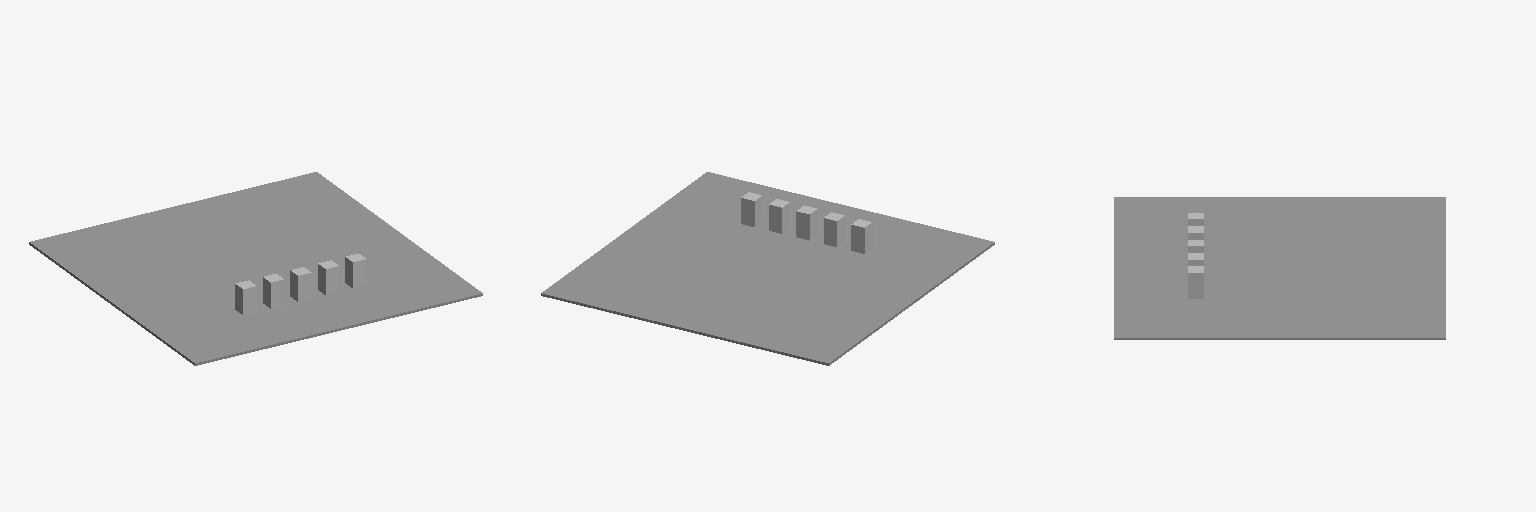
The model's file is demolevel.obj.
3 views of the same model, side by side, from view 1: azimuth 30°, elevation 25°; view 2: azimuth 150°, elevation 25°; view 3: azimuth 270°, elevation 25° (orthographic).
Visible parts, largest first — view 1: Floor_Cube, MusicCube2_Cube.002, MusicCube0_Cube.004, MusicCube4_Cube.005, MusicCube1_Cube.001, MusicCube3_Cube.003; view 2: Floor_Cube, MusicCube4_Cube.005, MusicCube2_Cube.002, MusicCube0_Cube.004, MusicCube1_Cube.001, MusicCube3_Cube.003; view 3: Floor_Cube, MusicCube4_Cube.005.
Boxes of the visible parts, x1,y1,x2,y2 form: Floor_Cube: [29, 172, 482, 365]; MusicCube2_Cube.002: [290, 267, 311, 301]; MusicCube0_Cube.004: [235, 280, 256, 314]; MusicCube4_Cube.005: [345, 253, 366, 288]; MusicCube1_Cube.001: [263, 274, 283, 308]; MusicCube3_Cube.003: [318, 260, 338, 294]; Floor_Cube: [541, 172, 994, 365]; MusicCube4_Cube.005: [741, 192, 762, 226]; MusicCube2_Cube.002: [796, 205, 817, 240]; MusicCube0_Cube.004: [851, 219, 872, 253]; MusicCube1_Cube.001: [824, 212, 844, 246]; MusicCube3_Cube.003: [769, 199, 789, 233]; Floor_Cube: [1114, 197, 1445, 339]; MusicCube4_Cube.005: [1188, 266, 1203, 298].
Size of the model in its own units: 41.86 by 4.06 by 41.86.